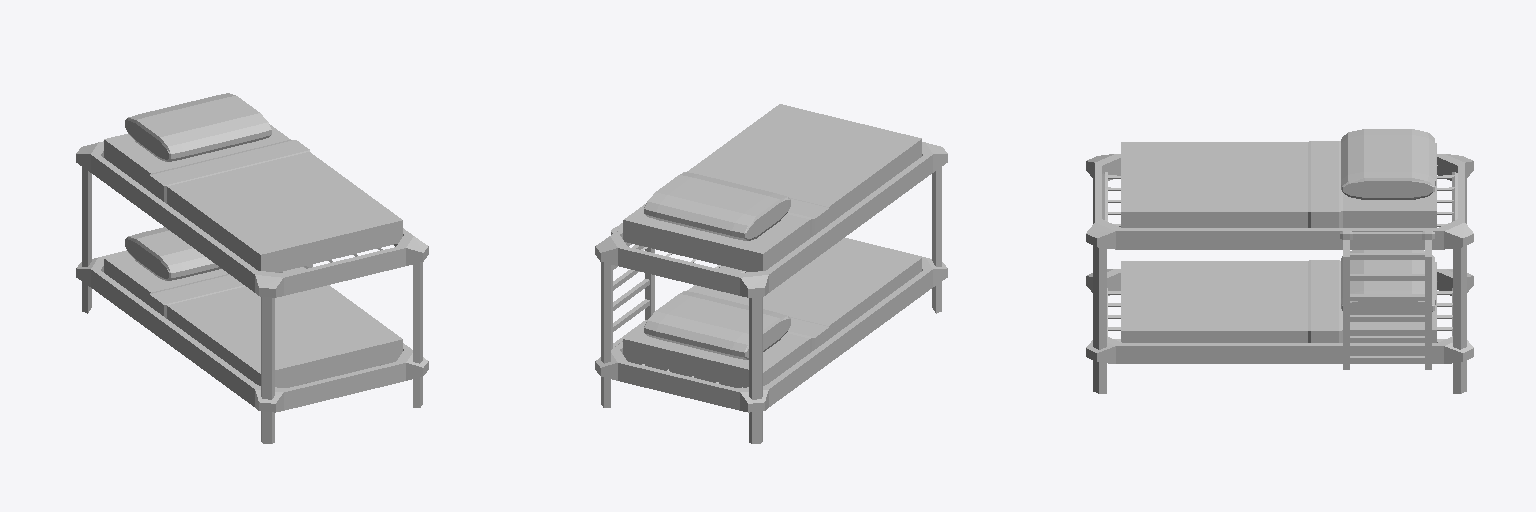
Rendered from Кровать (Двойная).obj.
3 views of the same model, side by side, from view 1: azimuth 30°, elevation 25°; view 2: azimuth 150°, elevation 25°; view 3: azimuth 270°, elevation 25° (orthographic).
Visible parts, largest first — view 1: Cube.002_Cube.003, Cube_Cube.001, Plane.002, Plane, Cube.003_Cube.004, Cube.001_Cube.002; view 2: Cube.002_Cube.003, Cube_Cube.001, Plane.002, Plane, Cube.003_Cube.004, Cube.001_Cube.002, Cube.005, Cube.004_Cube; view 3: Cube.002_Cube.003, Cube_Cube.001, Plane.002, Plane, Cube.003_Cube.004, Cube.001_Cube.002, Cube.005, Cube.004_Cube, Plane.003, Plane.001.
Part boxes in pixels (x1,y1,x2,y2): Cube.002_Cube.003: (104,125,402,272); Cube_Cube.001: (104,253,402,387); Plane.002: (76,141,428,399); Plane: (76,250,428,443); Cube.003_Cube.004: (125,93,271,161); Cube.001_Cube.002: (125,227,221,280); Cube.002_Cube.003: (623,104,921,271); Cube_Cube.001: (623,238,921,387); Plane.002: (595,142,947,399); Plane: (595,238,947,443); Cube.003_Cube.004: (644,172,790,240); Cube.001_Cube.002: (644,291,790,359); Cube.005: (613,245,649,347); Cube.004_Cube: (611,223,654,349); Cube.002_Cube.003: (1121,141,1436,227); Cube_Cube.001: (1121,260,1436,342); Plane.002: (1086,154,1473,349); Plane: (1086,269,1473,393); Cube.003_Cube.004: (1341,129,1435,199); Cube.001_Cube.002: (1341,250,1435,314); Cube.005: (1350,253,1424,362); Cube.004_Cube: (1340,231,1434,369); Plane.003: (1102,165,1457,226); Plane.001: (1107,281,1452,342).
Size of the model in its own units: 1.11 by 1.22 by 2.12.